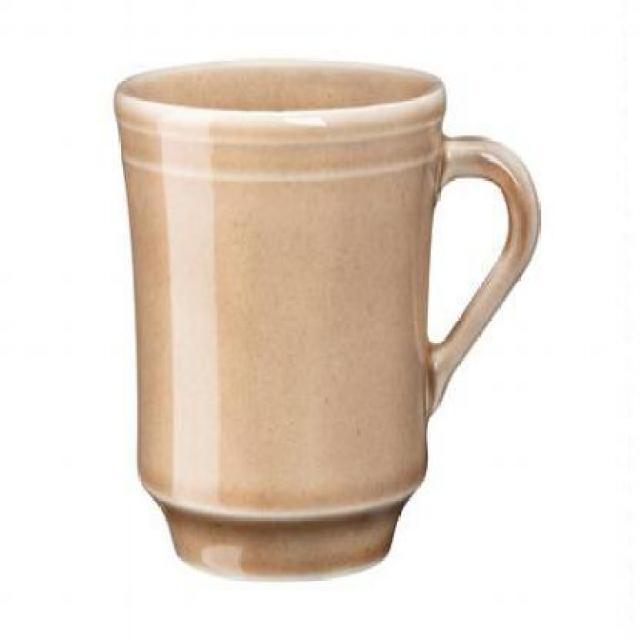taza: (108, 57, 540, 580)
